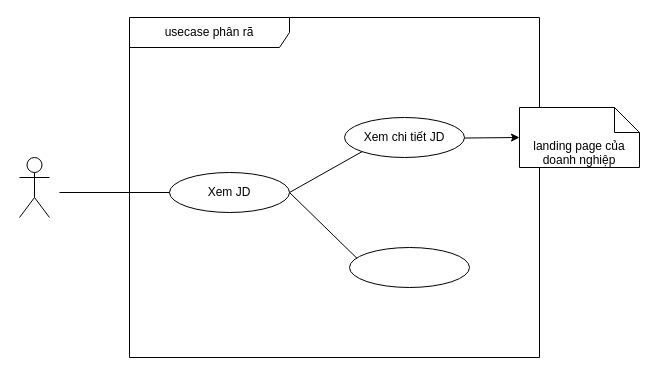
The diagram is 657 pixels wide and 375 high, and some of its shapes have lost their labels. Each missing label, with the centre of its shape:
Khách: [34,187]
Ứng tuyển: [409,267]
